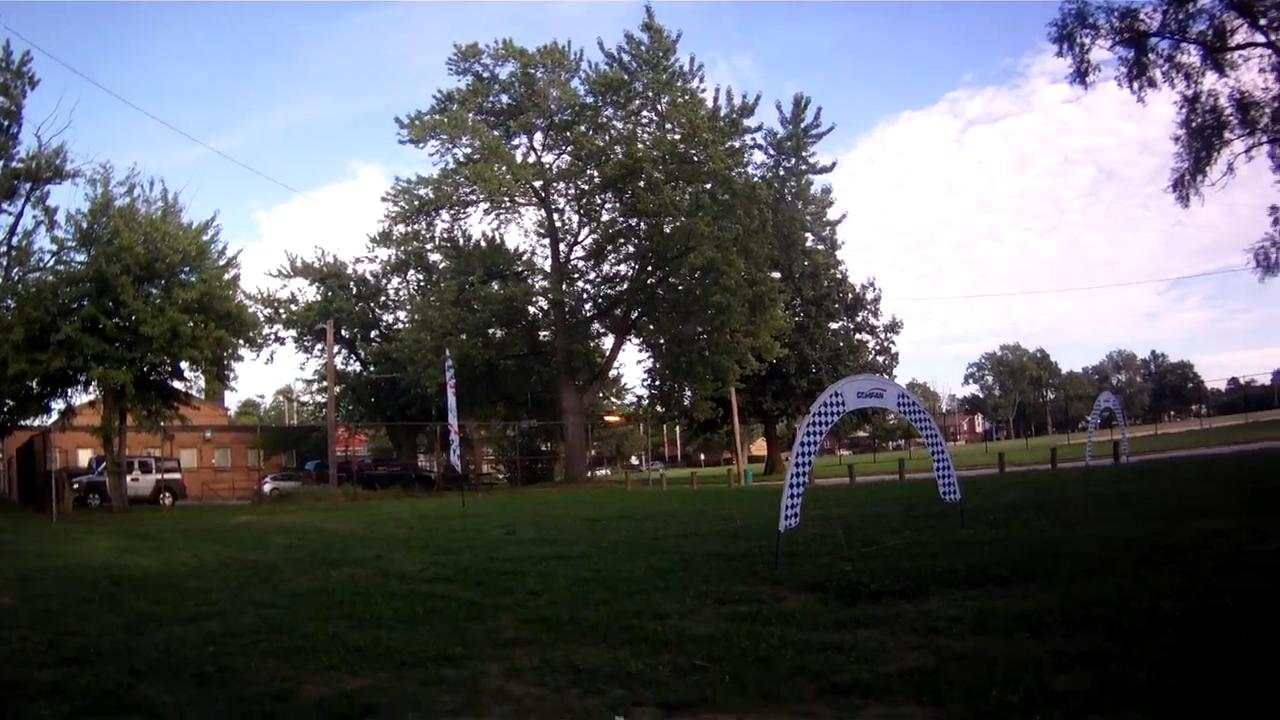gate: (776, 371, 961, 543)
